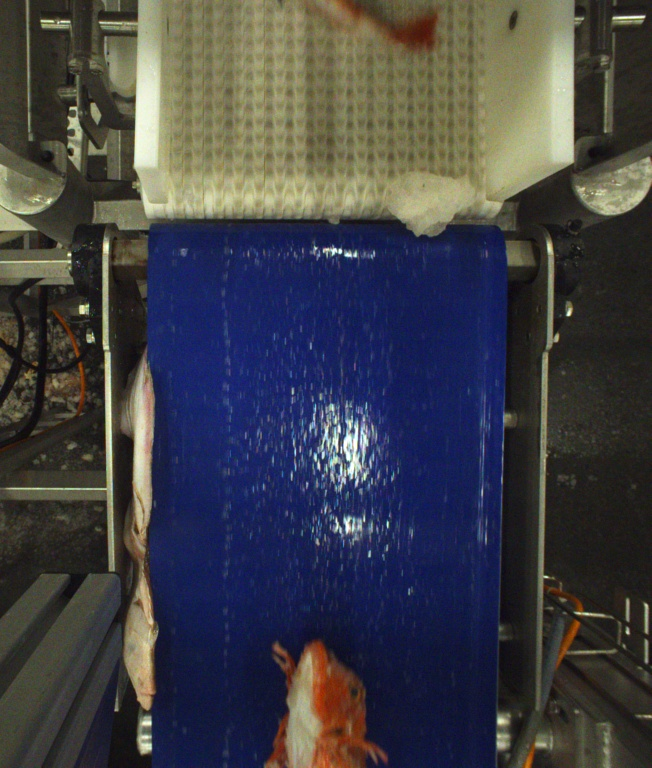GUU: (261, 639, 392, 768)
